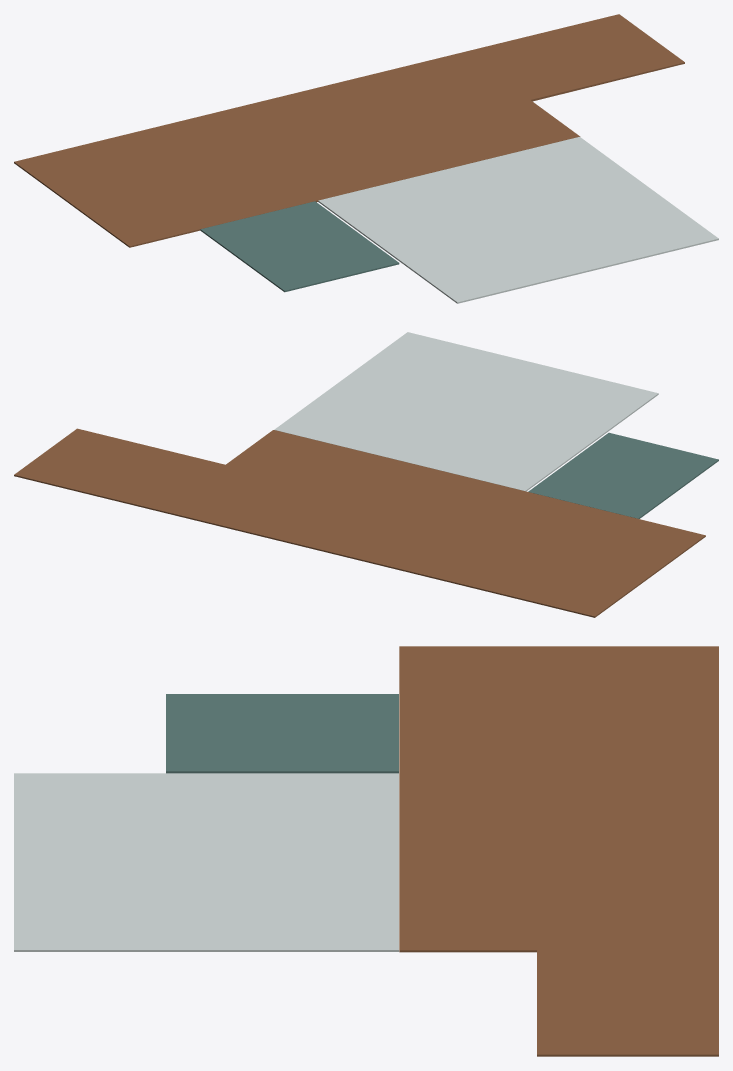
The model's file is admin_floor.fbx.
3 views of the same model, one above another, from view 1: azimuth 30°, elevation 25°; view 2: azimuth 150°, elevation 25°; view 3: azimuth 270°, elevation 25° (orthographic). The views are drawn at different scales.
Parts seen in each view (by area): view 1: Plane.011; view 2: Plane.011; view 3: Plane.011.
Boxes of the visible parts, left/top/right/bottom form: Plane.011: left=14, top=14, right=718, bottom=303; Plane.011: left=14, top=332, right=718, bottom=617; Plane.011: left=14, top=646, right=718, bottom=1056.
Bounding box in the file's own units: 4346 × 20 × 3171.
